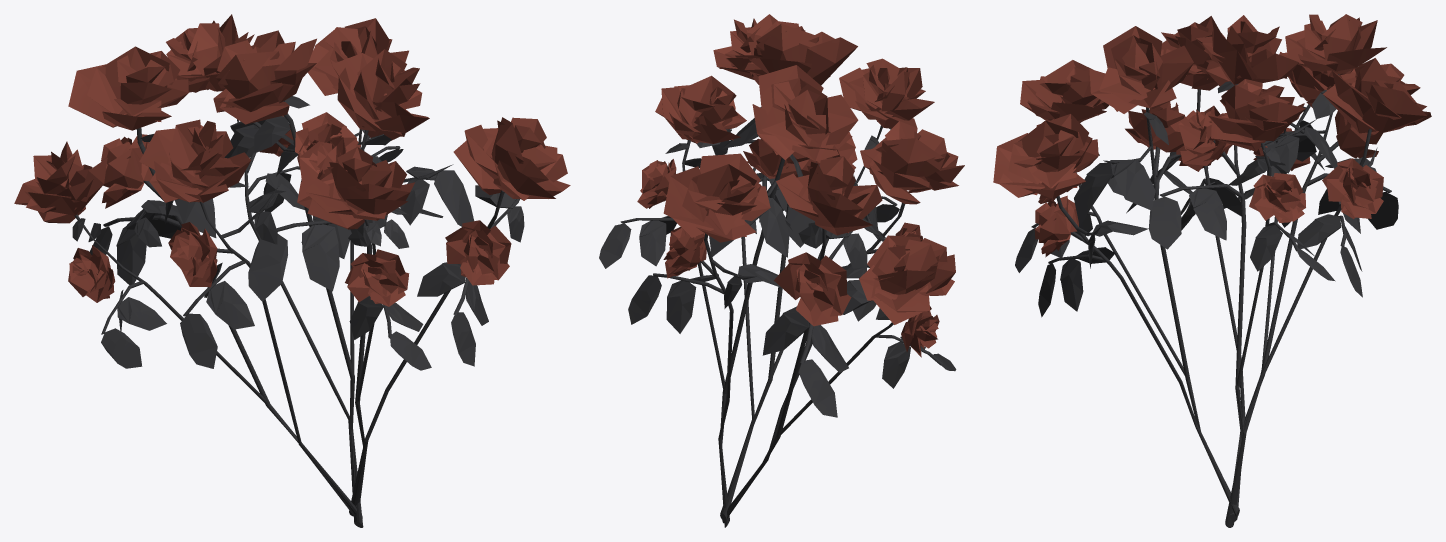
File: roses.glb
3 views of the same model, side by side, from view 1: azimuth 30°, elevation 25°; view 2: azimuth 150°, elevation 25°; view 3: azimuth 270°, elevation 25° (orthographic). The views are drawn at different scales.
Parts seen in each view (by area): view 1: roses; view 2: roses; view 3: roses.
Part boxes in pixels (x1,y1,x2,y2): roses: (14, 14, 570, 527); roses: (599, 14, 964, 527); roses: (993, 14, 1431, 527).
Bounding box in the file's own units: 0.34 × 0.42 × 0.3502.
2 materials, 2 textured.
